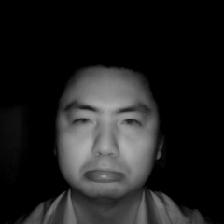sad: (48, 52, 170, 209)
